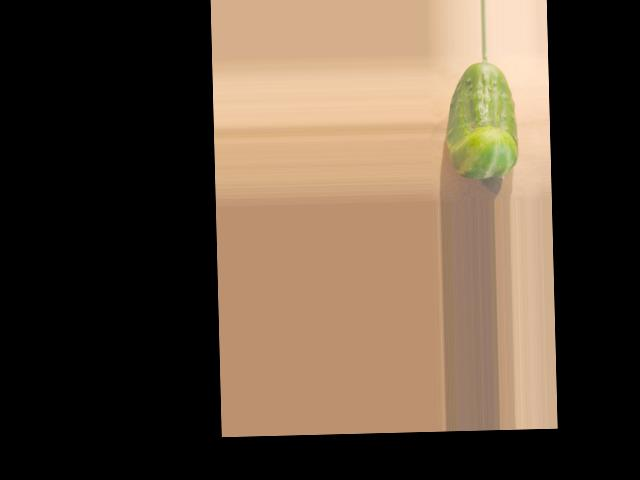cucumber: (445, 60, 520, 179)
